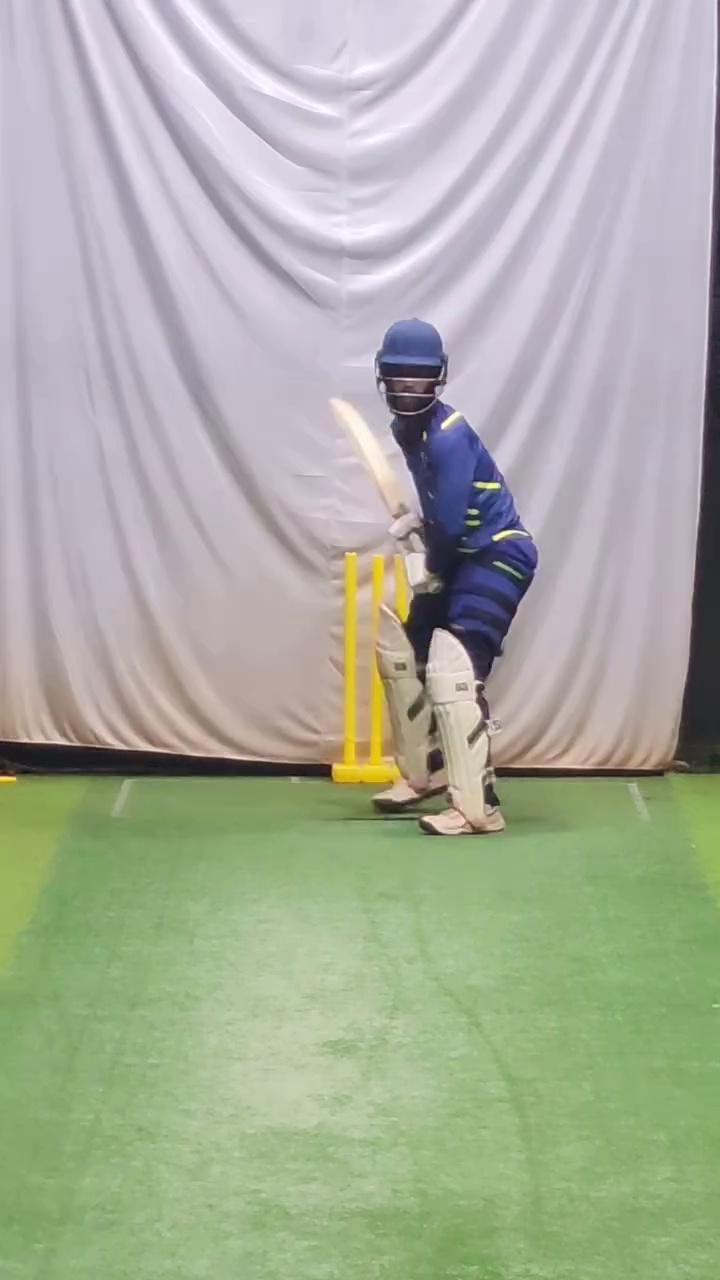bat: (322, 383, 415, 525)
